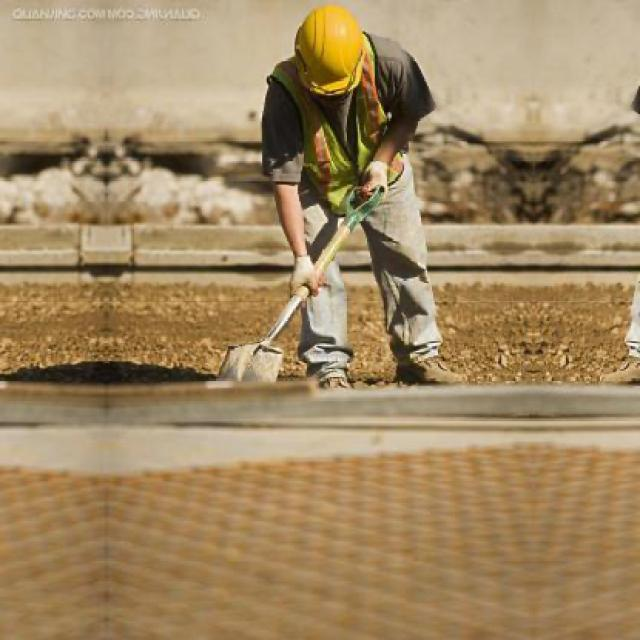con casco: (274, 0, 395, 122)
